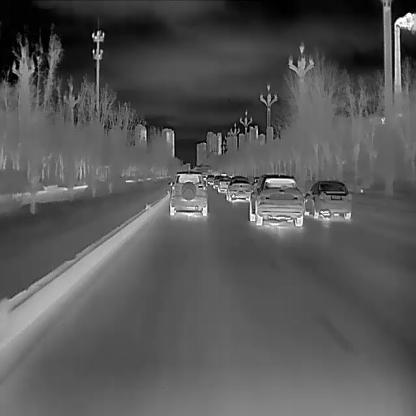car: (247, 171, 305, 226), (303, 179, 352, 219), (166, 169, 208, 215), (224, 174, 250, 201), (217, 174, 230, 192), (250, 175, 259, 191), (211, 174, 222, 187), (206, 173, 214, 185)
